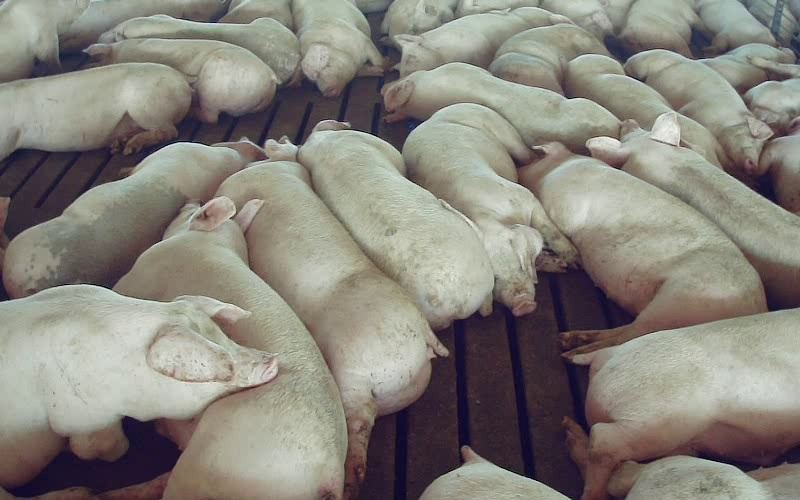pig: (114, 197, 346, 499), (0, 285, 277, 486), (519, 142, 765, 351), (573, 308, 799, 499), (3, 139, 262, 297), (587, 113, 799, 306), (298, 120, 493, 328), (403, 103, 576, 315), (382, 63, 619, 152), (624, 49, 772, 173), (0, 63, 190, 159), (86, 38, 277, 122), (99, 15, 300, 82), (393, 7, 571, 76), (290, 0, 383, 96), (489, 24, 608, 93), (699, 43, 795, 93), (618, 0, 699, 57), (695, 0, 776, 55), (743, 57, 799, 135)
